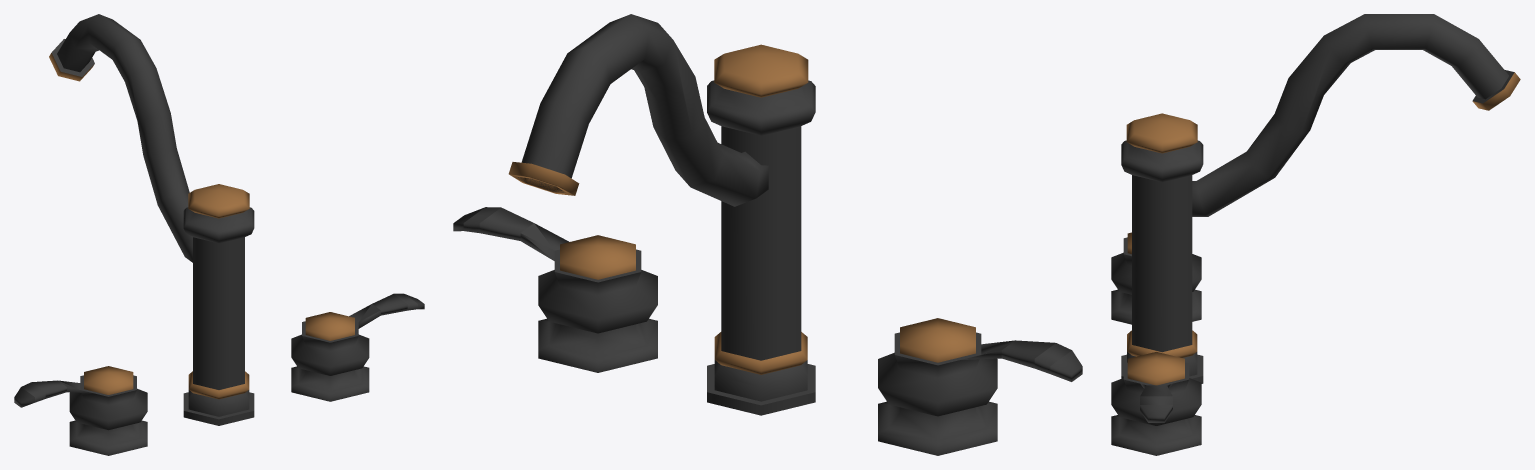
The picture shows the model from 3 angles, left to right: view 1: azimuth 30°, elevation 25°; view 2: azimuth 150°, elevation 25°; view 3: azimuth 270°, elevation 25°; orthographic projection. The views are drawn at different scales.
Visible parts, largest first — view 1: kit_faucet_knob (×6), group_1 (×5), group_2; view 2: kit_faucet_knob (×6), group_1 (×5), group_2 (×2); view 3: group_2 (×2), group_1 (×3), kit_faucet_knob (×5).
Part boxes in pixels (x1,y1,x2,y2): kit_faucet_knob (×6): (14,293,424,455); group_1 (×5): (183,184,254,425); group_2: (57,14,192,262); kit_faucet_knob (×6): (453,207,1082,455); group_1 (×5): (707,44,815,415); group_2 (×2): (508,14,768,206); group_2 (×2): (1192,14,1520,216); group_1 (×3): (1121,113,1203,357); kit_faucet_knob (×5): (1111,237,1201,455).
Size of the model in its own units: 15.24 by 11.57 by 11.16.
